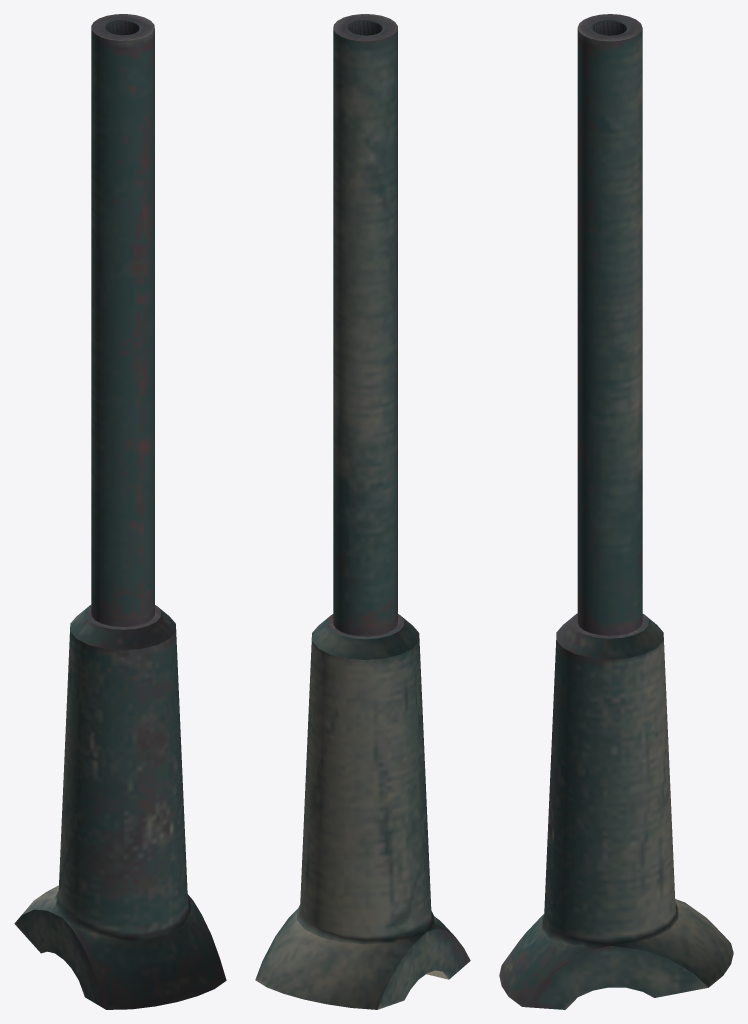
File: Gun_04.glb
The picture shows the model from 3 angles, left to right: view 1: azimuth 30°, elevation 25°; view 2: azimuth 150°, elevation 25°; view 3: azimuth 270°, elevation 25°; orthographic projection.
Visible parts, largest first — view 1: set_0_group_0; view 2: set_0_group_0; view 3: set_0_group_0.
Boxes of the visible parts, <box> form: set_0_group_0: <box>14,14,226,1009</box>; set_0_group_0: <box>255,14,470,1009</box>; set_0_group_0: <box>499,14,733,1009</box>.
Size of the model in its own units: 0.3096 by 2.31 by 0.5151.
Materials: 1 (1 with a texture image).
